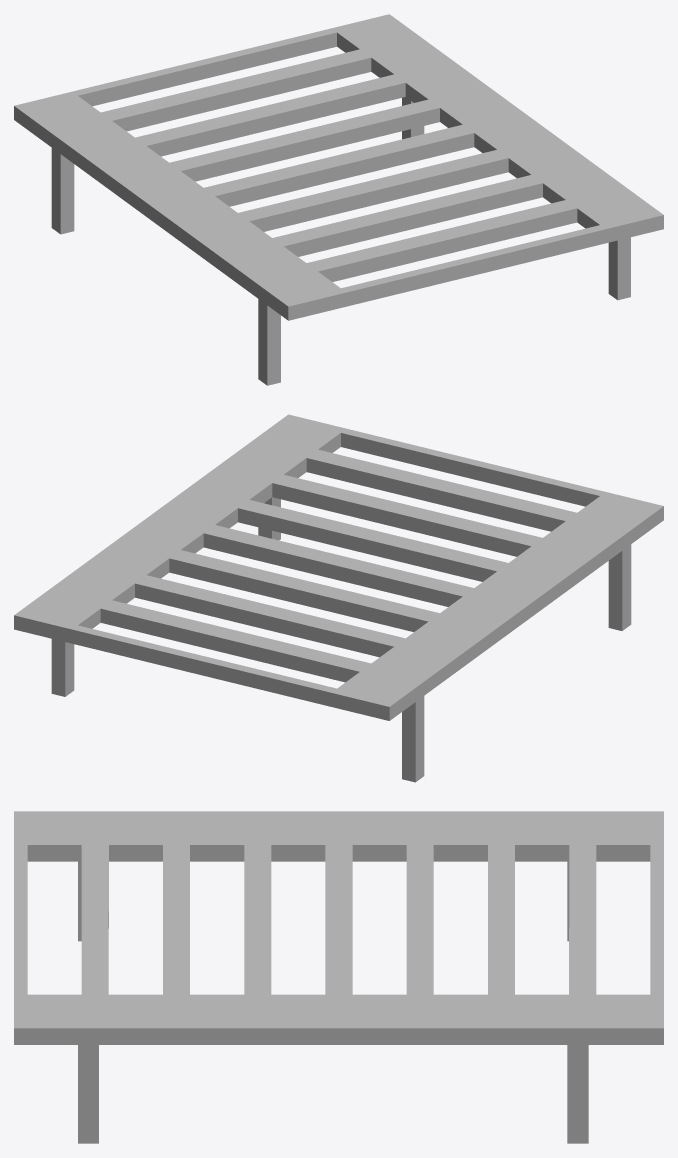
The model's file is SM_RoofElement_03.FBX.
3 renders of one model, top to bottom at view 1: azimuth 30°, elevation 25°; view 2: azimuth 150°, elevation 25°; view 3: azimuth 270°, elevation 25°, orthographic. The views are drawn at different scales.
Visible parts, largest first — view 1: SM_RoofElement_03; view 2: SM_RoofElement_03; view 3: SM_RoofElement_03.
Part boxes in pixels (left/top/right/bottom): SM_RoofElement_03: left=14, top=14, right=663, bottom=385; SM_RoofElement_03: left=14, top=414, right=663, bottom=782; SM_RoofElement_03: left=14, top=811, right=663, bottom=1143.
Size of the model in its own units: 2.15 by 0.5476 by 2.72.
Materials: 1 (1 with a texture image).
